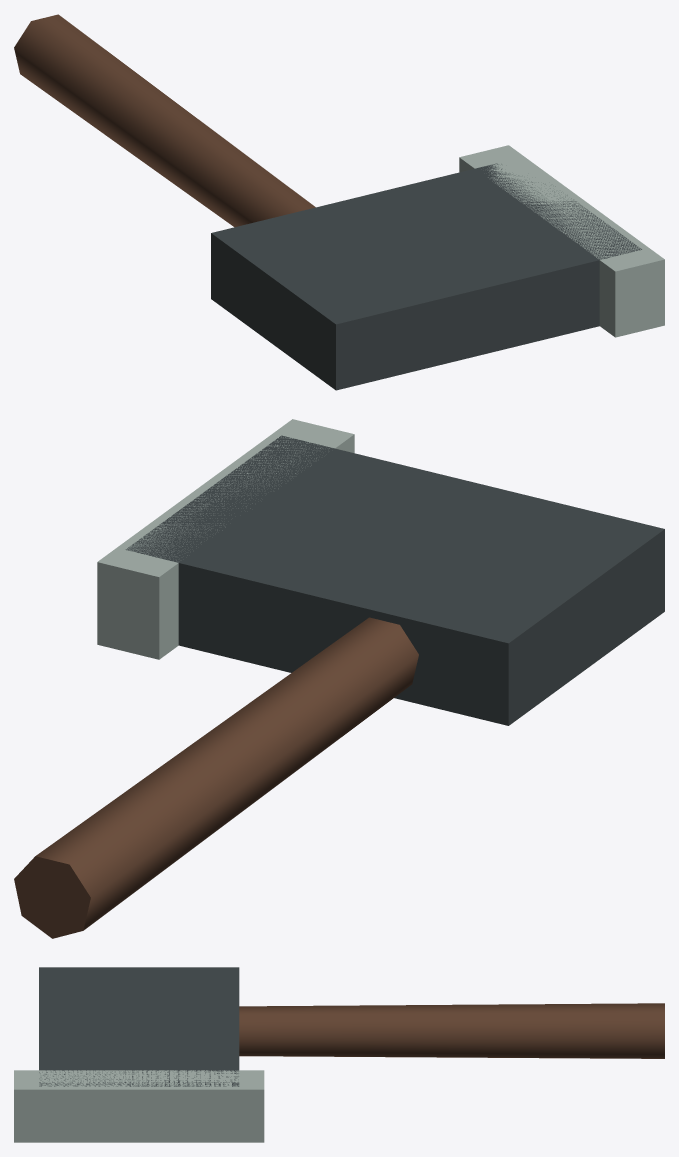
File: Tool_Axe.glb
The picture shows the model from 3 angles, top to bottom: view 1: azimuth 30°, elevation 25°; view 2: azimuth 150°, elevation 25°; view 3: azimuth 270°, elevation 25°; orthographic projection. The views are drawn at different scales.
Visible parts, largest first — view 1: _MeshInstance3D_4572, _MeshInstance3D_4571, _MeshInstance3D_4573; view 2: _MeshInstance3D_4572, _MeshInstance3D_4571, _MeshInstance3D_4573; view 3: _MeshInstance3D_4571, _MeshInstance3D_4572, _MeshInstance3D_4573.
Boxes of the visible parts, x1,y1,x2,y2 form: _MeshInstance3D_4572: (211,163,641,390); _MeshInstance3D_4571: (14,14,315,227); _MeshInstance3D_4573: (459,145,664,337); _MeshInstance3D_4572: (125,435,664,725); _MeshInstance3D_4571: (14,617,418,938); _MeshInstance3D_4573: (97,419,354,659); _MeshInstance3D_4571: (239,1003,664,1058); _MeshInstance3D_4572: (39,967,239,1086); _MeshInstance3D_4573: (14,1070,264,1142).
Size of the model in its own units: 0.3475 by 0.07 by 0.78.
